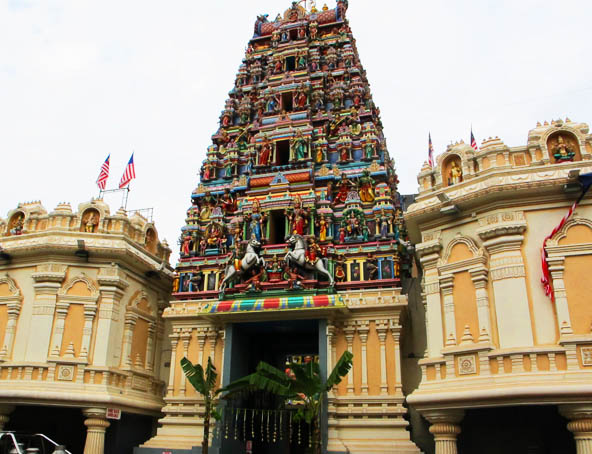Hindu Temple: (165, 5, 404, 420)
